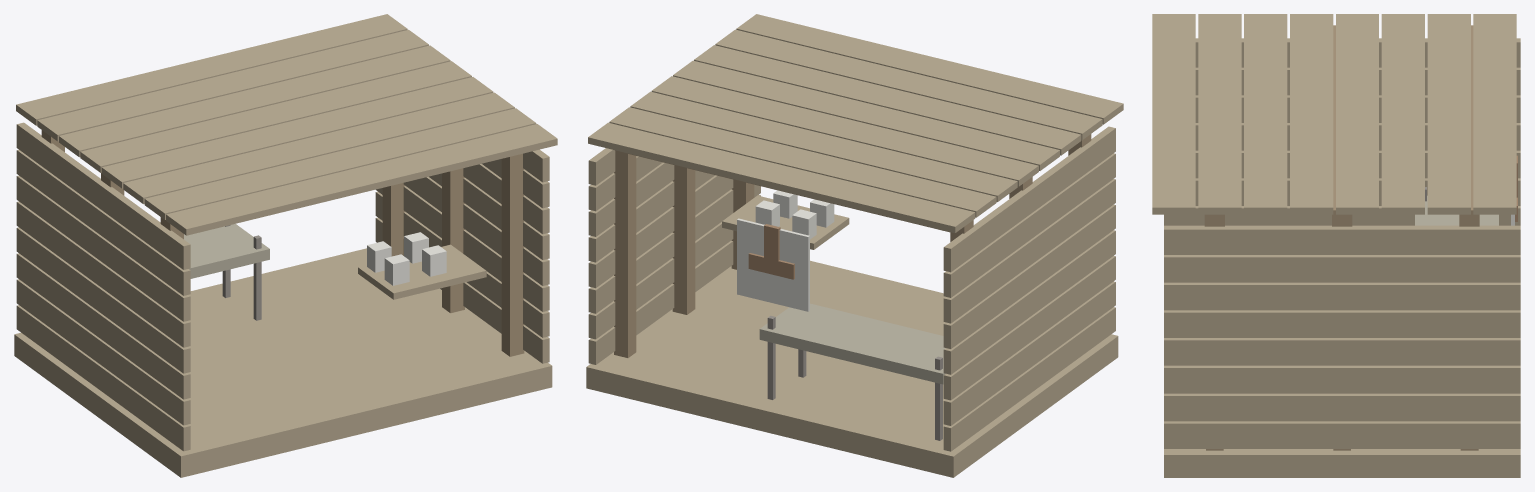
Rendered from trench-line-1917-aid-post-12802a7f__24074.glb.
The picture shows the model from 3 angles, left to right: view 1: azimuth 30°, elevation 25°; view 2: azimuth 150°, elevation 25°; view 3: azimuth 270°, elevation 25°; orthographic projection. The views are drawn at different scales.
Visible parts, largest first — view 1: aid-post; view 2: aid-post; view 3: aid-post.
Boxes of the visible parts, x1=… form: aid-post: x1=14, y1=14, x2=557, y2=477; aid-post: x1=586, y1=14, x2=1123, y2=477; aid-post: x1=1152, y1=14, x2=1520, y2=477.
Size of the model in its own units: 3.6 by 2.34 by 2.89.
